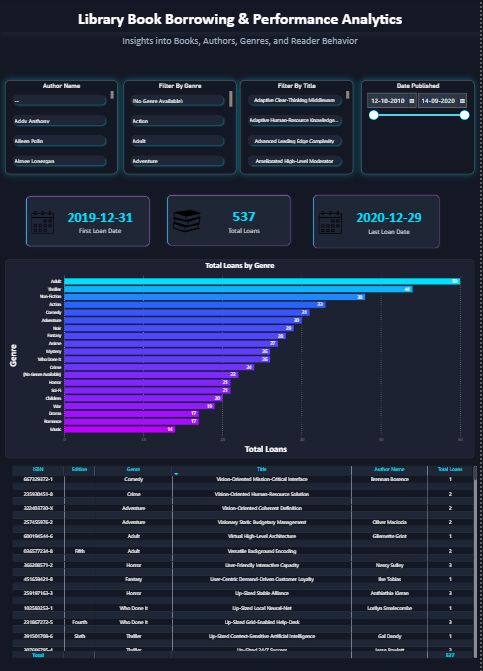

Layout of this report page (visuals, bound fields, positions):
{"tool":"powerbi","page":{"name":"Page 1","canvas":[1280,1800],"ordinal":0},"visuals":[{"type":"advancedSlicerVisual","fields":{"Values":["Query1.Author Name"]},"box":[12.5,216.2,300,250],"z":0},{"type":"advancedSlicerVisual","title":"Filter By Genre","fields":{"Values":["Query1.Genre"]},"box":[328.8,216.2,300,250],"z":1000},{"type":"slicer","title":"Date Published","fields":{"Values":["Query1.Date Published"]},"box":[962.5,216.2,301.2,250],"z":2000},{"type":"advancedSlicerVisual","title":"Filter By Title","fields":{"Values":["Query1.Title"]},"box":[640,216.2,301.2,250],"z":3000},{"type":"cardVisual","fields":{"Data":["Query1.Total Loans"]},"box":[429.5,507.7,361.5,167.9],"z":4000},{"type":"tableEx","fields":{"Values":["Query1.ISBN","Query1.Edition","Query1.Genre","Query1.Title","Query1.Author Name","Query1.Total Loans"]},"box":[26.2,1239.3,1250.8,523],"z":5000},{"type":"barChart","title":"Total Loans by Genre","fields":{"Category":["Query1.Genre"],"Y":["Query1.Total Loans"]},"box":[13.8,692.5,1251.2,531.2],"z":6000},{"type":"cardVisual","fields":{"Data":["Query1.last loan date"]},"box":[821.8,509,361.5,167.9],"z":8000},{"type":"textbox","box":[0,19.7,1280.3,68.9],"z":9000},{"type":"textbox","box":[0,88.6,1280,55.7],"z":10000},{"type":"cardVisual","fields":{"Data":["Query1.First Loan Date"]},"box":[52.6,510.3,362.8,166.7],"z":10001}]}

Visuals, with their boxes in screenshot pixels (x1, y1, x2, y2), scaled from the page's 1280x1800 canvas onto the 483x671 screenshot:
advancedSlicerVisual - Query1.Author Name: detection(5, 81, 118, 174)
"Filter By Genre" advancedSlicerVisual: detection(124, 81, 237, 174)
"Date Published" slicer: detection(363, 81, 477, 174)
"Filter By Title" advancedSlicerVisual: detection(242, 81, 355, 174)
cardVisual - Query1.Total Loans: detection(162, 189, 298, 252)
tableEx - Query1.ISBN x Query1.Edition: detection(10, 462, 482, 657)
"Total Loans by Genre" barChart: detection(5, 258, 477, 456)
cardVisual - Query1.last loan date: detection(310, 190, 447, 252)
textbox: detection(0, 7, 482, 33)
textbox: detection(0, 33, 482, 54)
cardVisual - Query1.First Loan Date: detection(20, 190, 157, 252)
